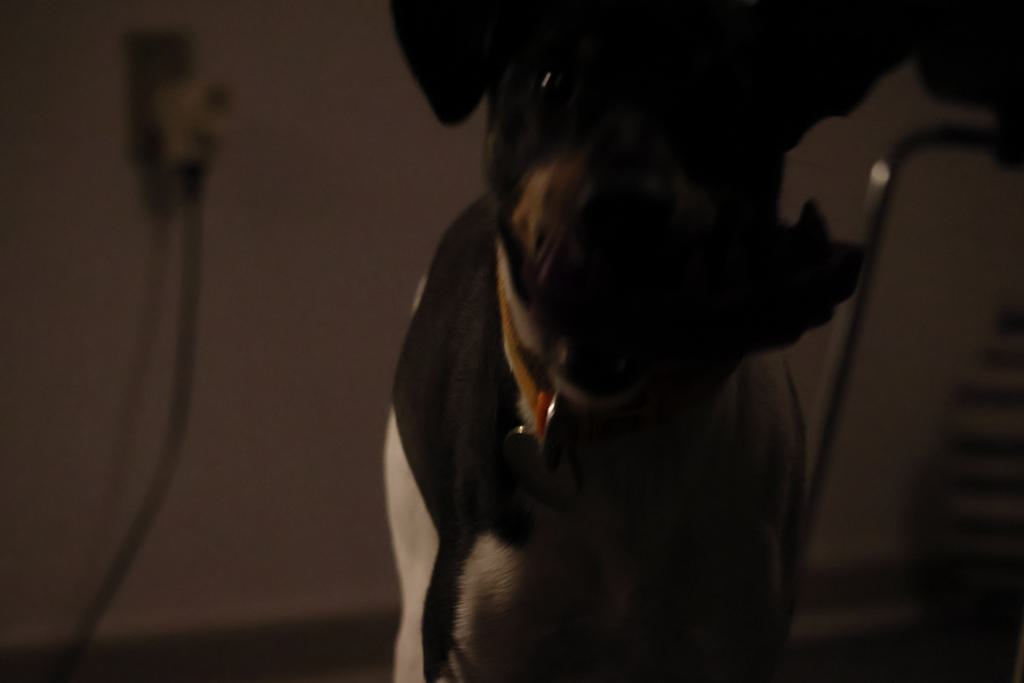Dog: (360, 0, 948, 683)
